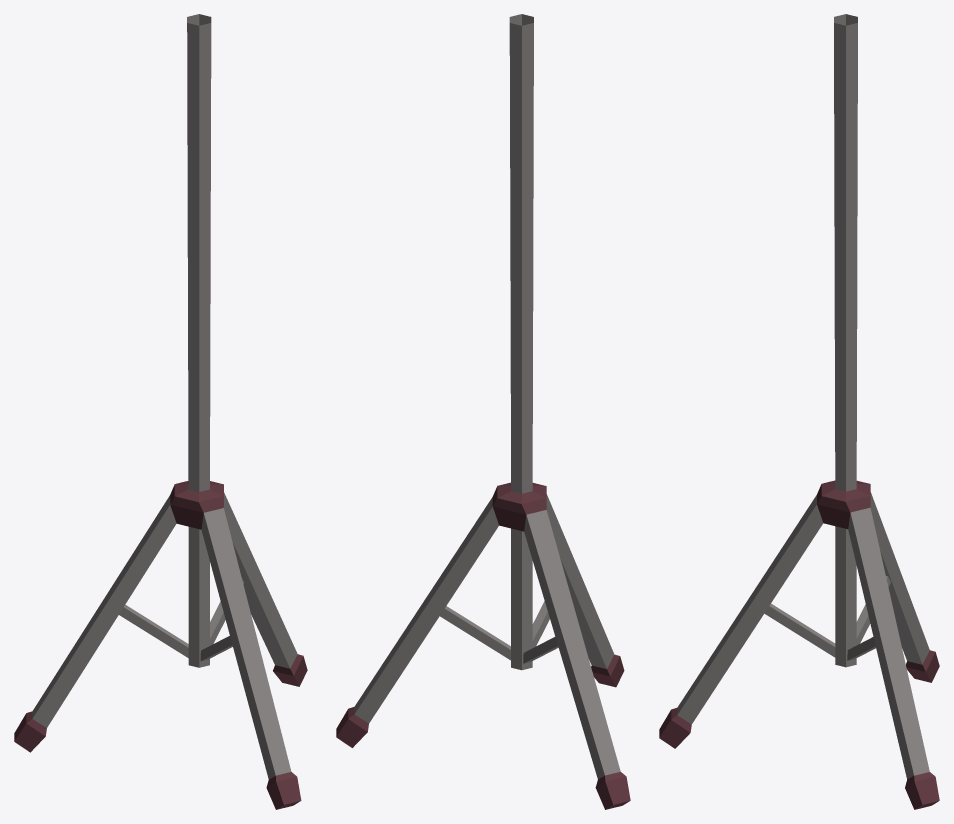
File: speaker-stand.fbx
3 renders of one model, left to right at view 1: azimuth 30°, elevation 25°; view 2: azimuth 150°, elevation 25°; view 3: azimuth 270°, elevation 25°, orthographic.
Visible parts, largest first — view 1: speaker-stand; view 2: speaker-stand; view 3: speaker-stand.
Boxes of the visible parts, x1,y1,x2,y2 form: speaker-stand: (14,14,307,809); speaker-stand: (336,14,630,809); speaker-stand: (659,14,939,809).
Size of the model in its own units: 0.8065 by 1.91 by 0.6686.
